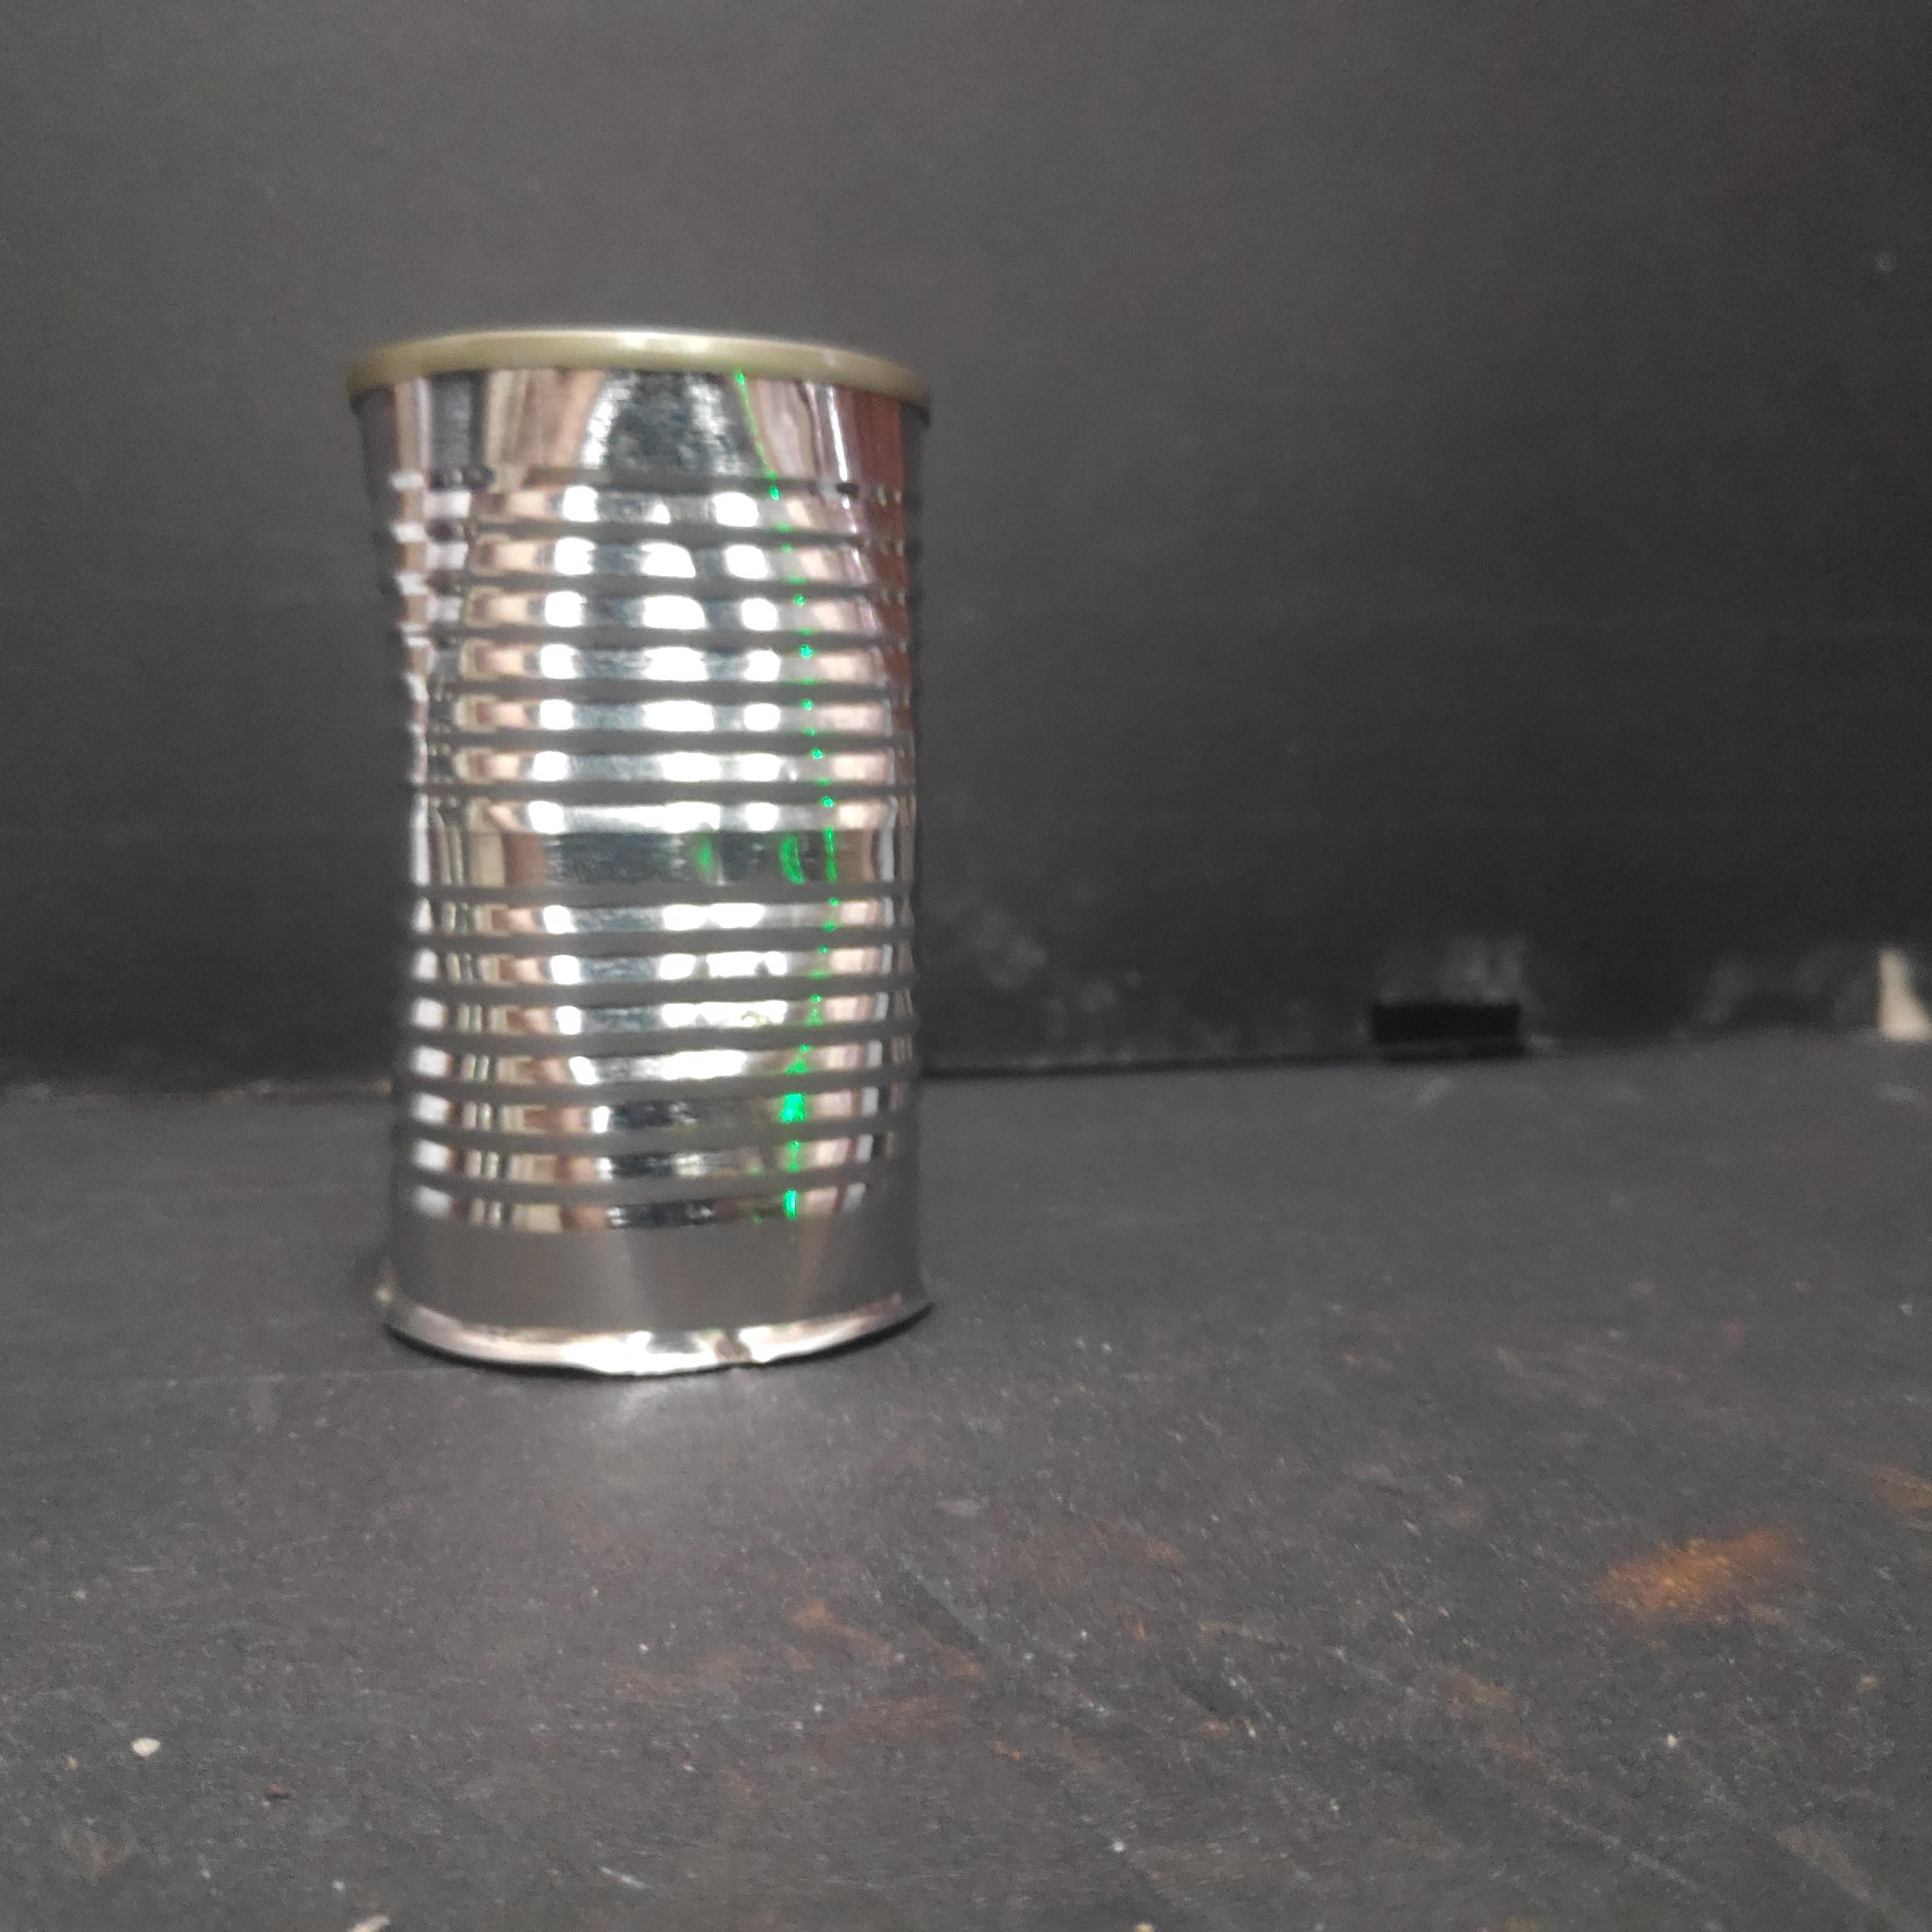Minor Defect: (347, 320, 947, 1385)
